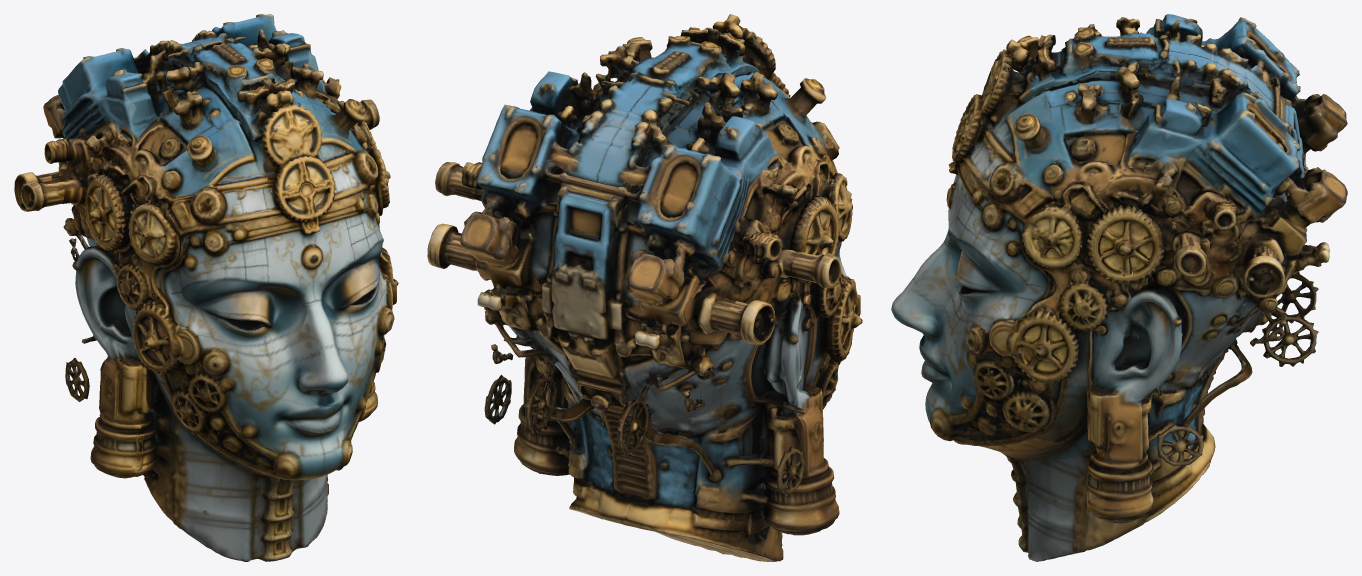
The model's file is lola.glb.
3 views of the same model, side by side, from view 1: azimuth 30°, elevation 25°; view 2: azimuth 150°, elevation 25°; view 3: azimuth 270°, elevation 25° (orthographic). The views are drawn at different scales.
Size of the model in its own units: 1.47 by 1.92 by 1.56.
Materials: 1 (1 with a texture image).
